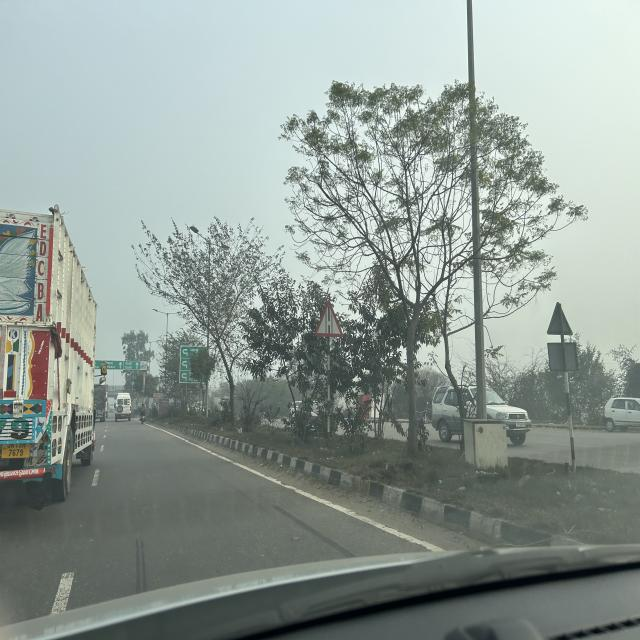GENERAL: (179, 345, 208, 384), (95, 360, 147, 370)
